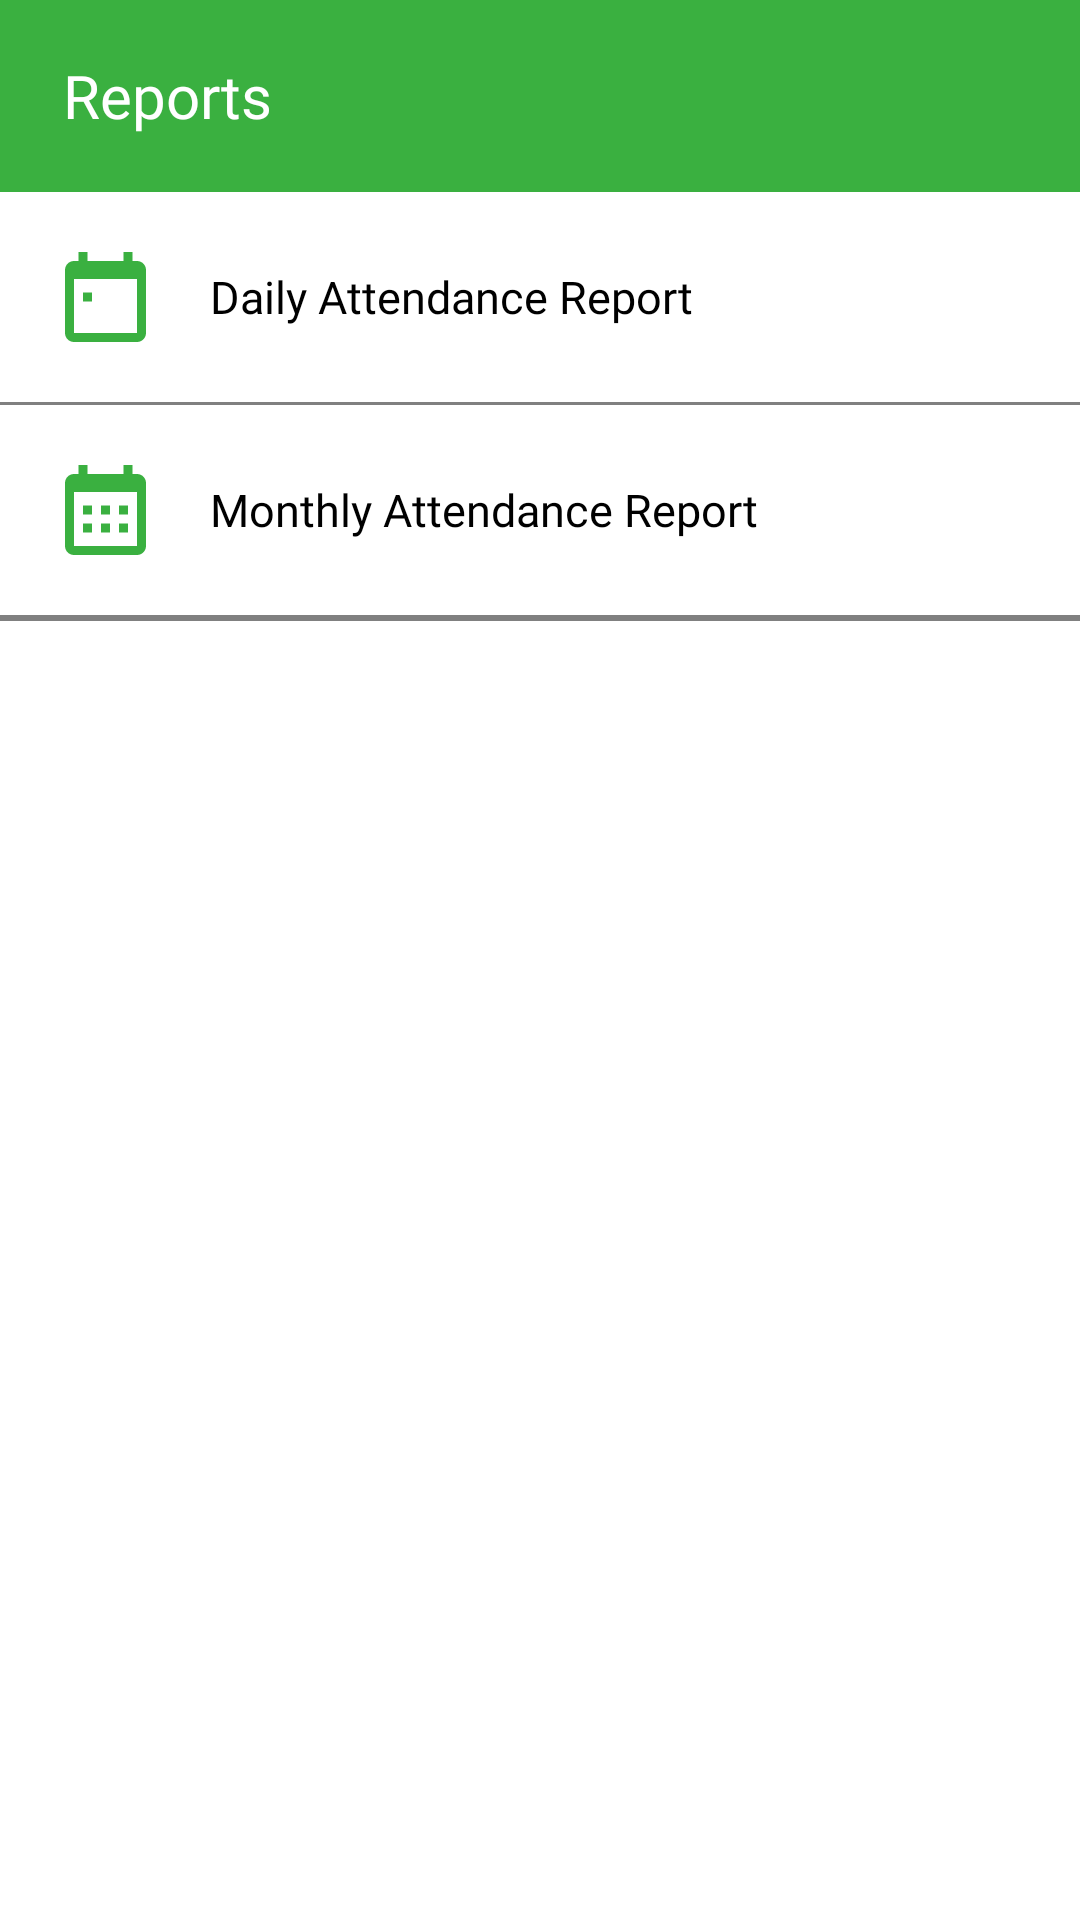

Screen size 1080px×1920px. Icon name, then its box in pixels as (x1, y1, x2, y2):
monthly reports: (65, 465, 146, 555)
